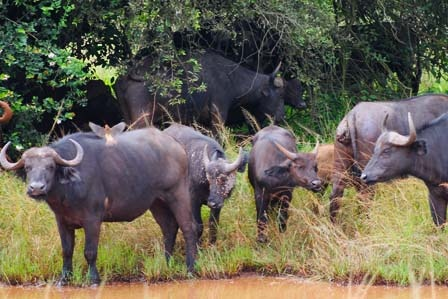buffalo: (0, 125, 201, 285), (108, 48, 310, 142), (160, 121, 246, 248), (245, 121, 323, 248), (361, 110, 448, 222)
elephant: (328, 83, 446, 232)
